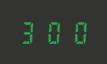three: (18, 20, 40, 44)
zero: (42, 20, 64, 44), (65, 20, 87, 44)
